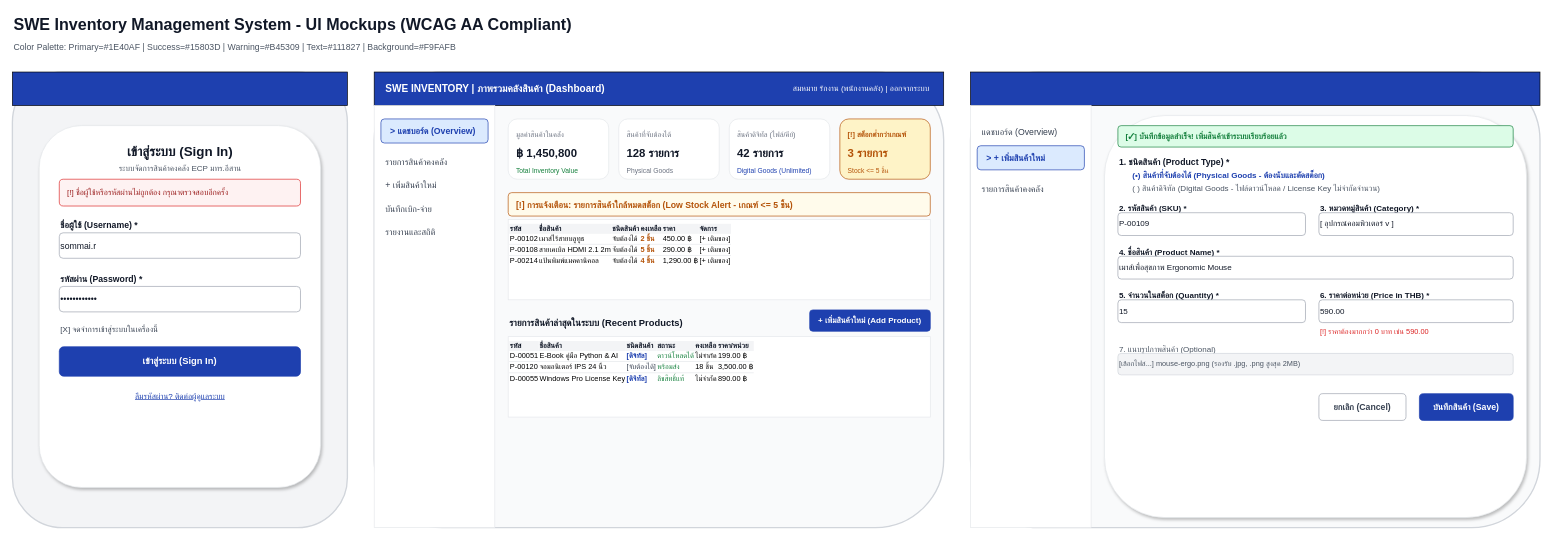
The diagram is 1552 pixels wide and 539 high, and some of its shapes have lost their labels. The centre of each missing label's shape, as x and y in pixels:
SWE Inventory - เข้าสู่ระบบ: the point at 179,88
SWE INVENTORY | บันทึกเพิ่มสินค้าใหม่ (Add Product): the point at 1255,88
